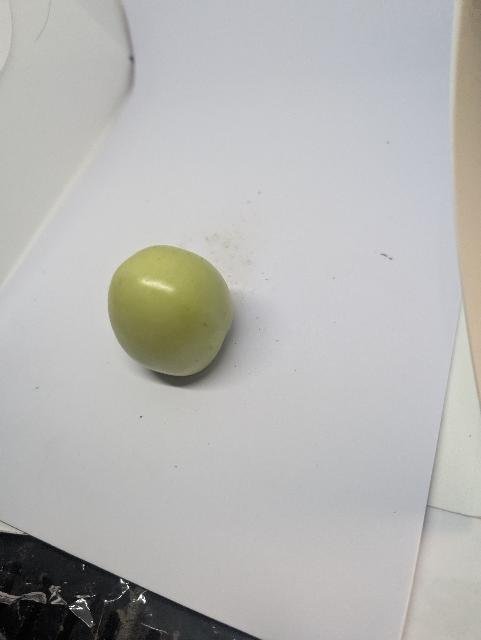green: (104, 242, 238, 378)
